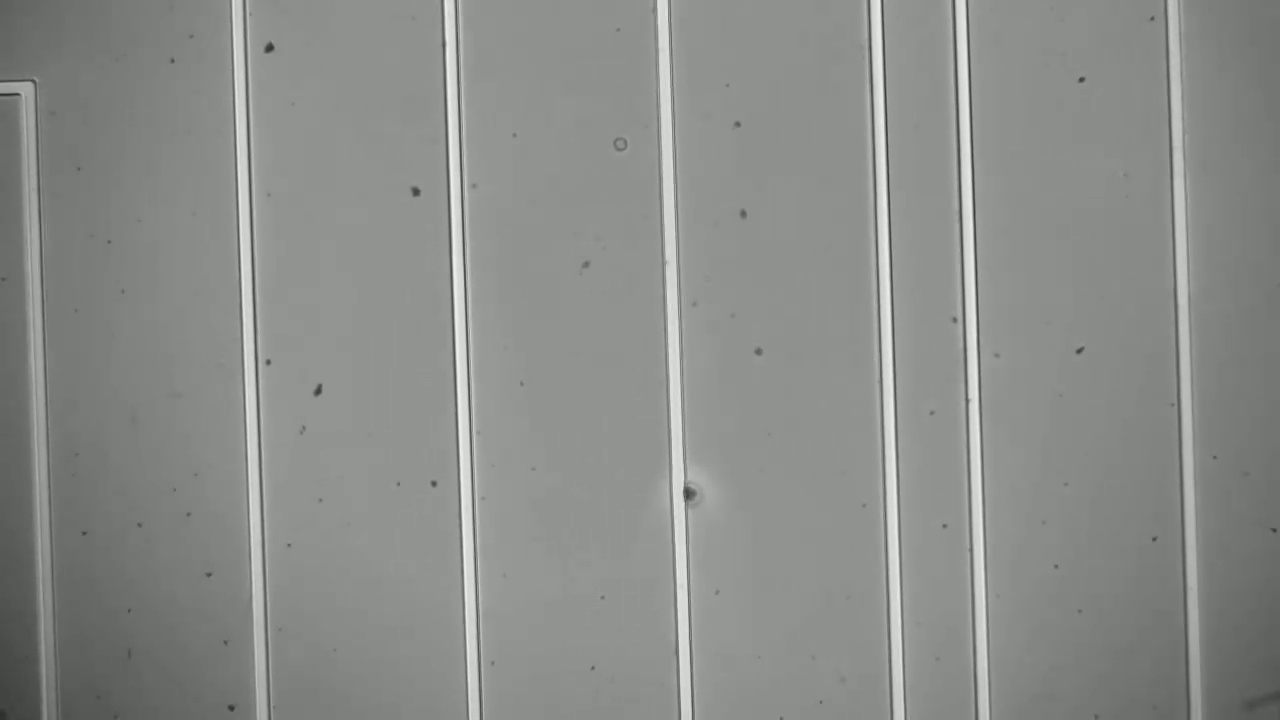stains_enbedded: (665, 475, 707, 519)
